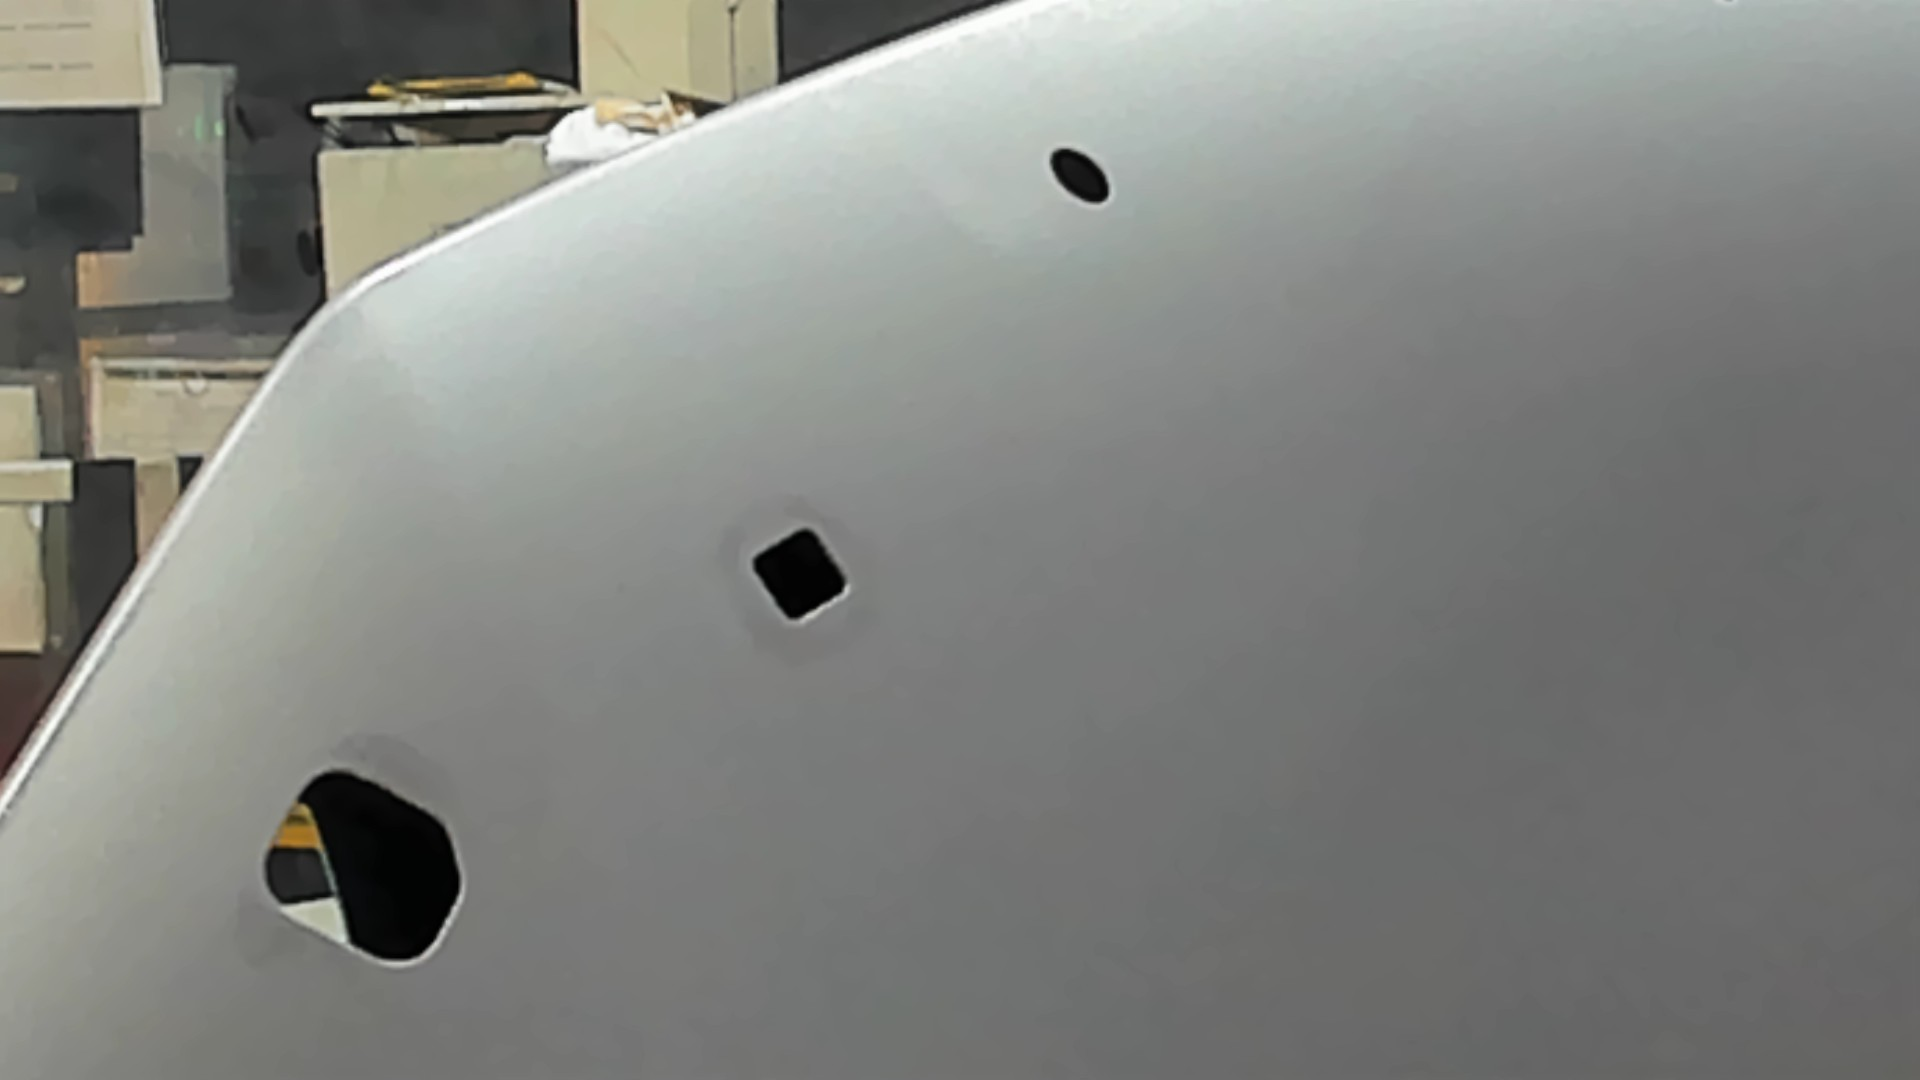Agujero: (748, 525, 853, 625), (1048, 146, 1114, 207)
Agujerote: (262, 766, 465, 971)
